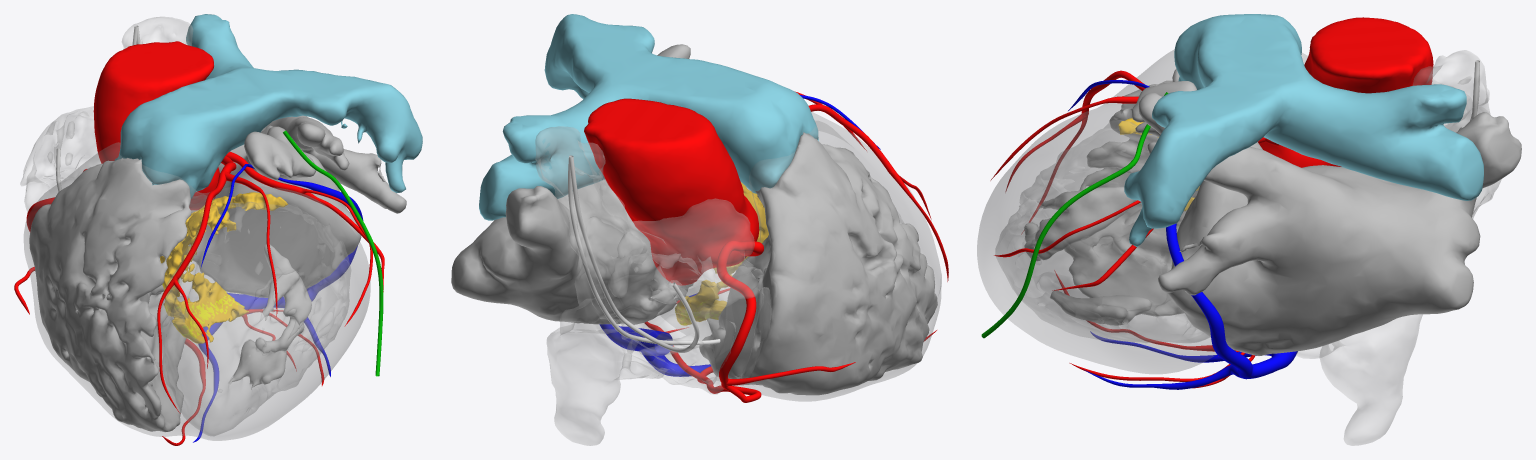
The model's file is inHEART_VT.glb.
The picture shows the model from 3 angles, left to right: view 1: azimuth 30°, elevation 25°; view 2: azimuth 150°, elevation 25°; view 3: azimuth 270°, elevation 25°; orthographic projection. The views are drawn at different scales.
Visible parts, largest first — view 1: EPI (CT) - Left and Right Epicardium - inHEART, RV ENDO (CT) - Right Ventricular Endocardium - inHEART, LV ENDO (CT) - Left Ventricular Endocardium - inHEART, PAT (CT) - Pulmonary Artery Trunk - inHEART, LA ENDO (CT) - Left Atrial Endocardium with Pulmonary Veins , AO (CT) - Aorta Arch - inHEART, RA ENDO (CT) - Right Atrial Endocardium - inHEART, SCAR (LE) - Scar - inHEART, PAPs (CT) - Papillary muscles and Trabeculations - inHEART, LCA - (CT) Left Coronary Artery - inHEART, CS - (CT) Coronary Sinus - inHEART, RCA - (CT) Right Coronary Artery - inHEART (+2 smaller); view 2: RA ENDO (CT) - Right Atrial Endocardium - inHEART, EPI (CT) - Left and Right Epicardium - inHEART, RV ENDO (CT) - Right Ventricular Endocardium - inHEART, PAT (CT) - Pulmonary Artery Trunk - inHEART, LA ENDO (CT) - Left Atrial Endocardium with Pulmonary Veins , AO (CT) - Aorta Arch - inHEART, RCA - (CT) Right Coronary Artery - inHEART, LEADS - (CT) ICD Leads - inHEART, CS - (CT) Coronary Sinus - inHEART, SCAR (LE) - Scar - inHEART, LCA - (CT) Left Coronary Artery - inHEART; view 3: LA ENDO (CT) - Left Atrial Endocardium with Pulmonary Veins , PAT (CT) - Pulmonary Artery Trunk - inHEART, EPI (CT) - Left and Right Epicardium - inHEART, LV ENDO (CT) - Left Ventricular Endocardium - inHEART, RA ENDO (CT) - Right Atrial Endocardium - inHEART, RV ENDO (CT) - Right Ventricular Endocardium - inHEART, AO (CT) - Aorta Arch - inHEART, PAPs (CT) - Papillary muscles and Trabeculations - inHEART, CS - (CT) Coronary Sinus - inHEART, LCA - (CT) Left Coronary Artery - inHEART, PN - (CT) Phrenic Nerve Course - inHEART, RCA - (CT) Right Coronary Artery - inHEART.
Part boxes in pixels (x1,y1,x2,y2): EPI (CT) - Left and Right Epicardium - inHEART: (24, 142, 370, 440); RV ENDO (CT) - Right Ventricular Endocardium - inHEART: (29, 158, 191, 432); LV ENDO (CT) - Left Ventricular Endocardium - inHEART: (157, 194, 350, 436); PAT (CT) - Pulmonary Artery Trunk - inHEART: (114, 14, 422, 198); LA ENDO (CT) - Left Atrial Endocardium with Pulmonary Veins : (189, 115, 406, 297); AO (CT) - Aorta Arch - inHEART: (93, 41, 219, 210); RA ENDO (CT) - Right Atrial Endocardium - inHEART: (20, 17, 192, 292); SCAR (LE) - Scar - inHEART: (160, 192, 287, 343); PAPs (CT) - Papillary muscles and Trabeculations - inHEART: (228, 245, 311, 389); LCA - (CT) Left Coronary Artery - inHEART: (157, 151, 384, 412); CS - (CT) Coronary Sinus - inHEART: (193, 164, 363, 442); RCA - (CT) Right Coronary Artery - inHEART: (14, 169, 324, 445); RA ENDO (CT) - Right Atrial Endocardium - inHEART: (535, 126, 770, 445); EPI (CT) - Left and Right Epicardium - inHEART: (660, 112, 941, 401); RV ENDO (CT) - Right Ventricular Endocardium - inHEART: (699, 132, 937, 395); PAT (CT) - Pulmonary Artery Trunk - inHEART: (479, 14, 819, 220); LA ENDO (CT) - Left Atrial Endocardium with Pulmonary Veins : (451, 44, 693, 324); AO (CT) - Aorta Arch - inHEART: (584, 98, 759, 285); RCA - (CT) Right Coronary Artery - inHEART: (644, 240, 936, 402); LEADS - (CT) ICD Leads - inHEART: (568, 155, 720, 352); CS - (CT) Coronary Sinus - inHEART: (599, 95, 880, 376); SCAR (LE) - Scar - inHEART: (675, 182, 768, 325); LCA - (CT) Left Coronary Artery - inHEART: (795, 91, 948, 281); LA ENDO (CT) - Left Atrial Endocardium with Pulmonary Veins : (1132, 81, 1521, 355); PAT (CT) - Pulmonary Artery Trunk - inHEART: (1124, 14, 1483, 247); EPI (CT) - Left and Right Epicardium - inHEART: (977, 50, 1307, 373); LV ENDO (CT) - Left Ventricular Endocardium - inHEART: (995, 120, 1209, 342); RA ENDO (CT) - Right Atrial Endocardium - inHEART: (1296, 50, 1501, 445); RV ENDO (CT) - Right Ventricular Endocardium - inHEART: (1064, 68, 1198, 316); AO (CT) - Aorta Arch - inHEART: (1259, 17, 1433, 167); PAPs (CT) - Papillary muscles and Trabeculations - inHEART: (1024, 187, 1151, 325); CS - (CT) Coronary Sinus - inHEART: (1068, 80, 1297, 389); LCA - (CT) Left Coronary Artery - inHEART: (990, 70, 1279, 290); PN - (CT) Phrenic Nerve Course - inHEART: (981, 92, 1168, 338); RCA - (CT) Right Coronary Artery - inHEART: (1054, 270, 1254, 388).
Size of the model in its own units: 0.922 by 0.7983 by 1.08.
